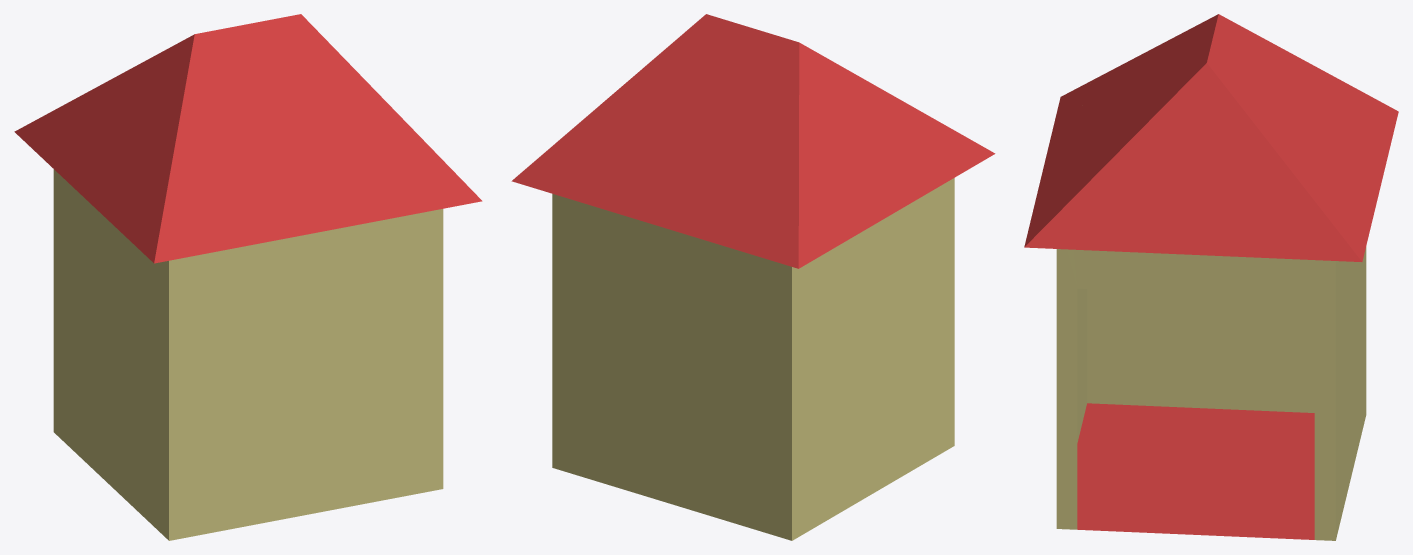
3 views of the same model, side by side, from view 1: azimuth 30°, elevation 25°; view 2: azimuth 150°, elevation 25°; view 3: azimuth 270°, elevation 25° (orthographic).
Visible parts, largest first — view 1: group_5, group_3, group_4; view 2: group_5, group_3, group_4; view 3: group_3, group_5, group_6, group_4.
Part boxes in pixels (<box>): group_5: <box>53,169,443,540</box>; group_3: <box>14,14,482,263</box>; group_4: <box>15,132,283,263</box>; group_5: <box>552,178,954,540</box>; group_3: <box>511,14,946,268</box>; group_4: <box>513,126,995,268</box>; group_3: <box>1024,14,1398,261</box>; group_5: <box>1056,247,1366,540</box>; group_6: <box>1077,403,1314,539</box>; group_4: <box>1060,77,1359,258</box>.
Bounding box in the file's own units: 13.15 × 12.6 × 16.1.
